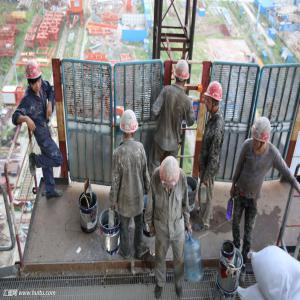red: (252, 115, 273, 153), (160, 156, 182, 191), (119, 108, 140, 143), (25, 60, 45, 94), (205, 80, 223, 114), (174, 56, 190, 88)
